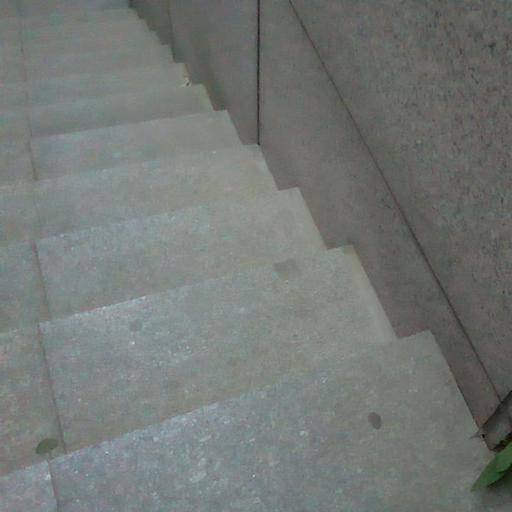stairs: (0, 0, 509, 511)
